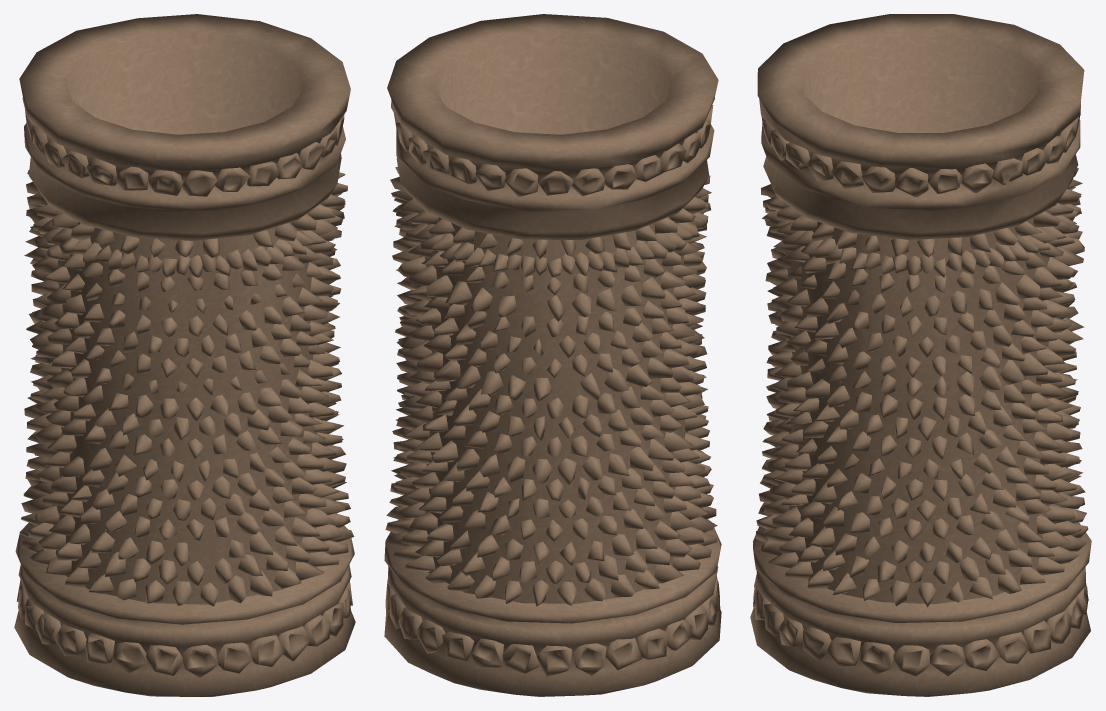
Rendered from IncienciarioLow.obj.
3 renders of one model, left to right at view 1: azimuth 30°, elevation 25°; view 2: azimuth 150°, elevation 25°; view 3: azimuth 270°, elevation 25°, orthographic.
Parts seen in each view (by area): view 1: Incienciario; view 2: Incienciario; view 3: Incienciario.
Part boxes in pixels (x1=…): Incienciario: x1=14, y1=14, x2=355, y2=696; Incienciario: x1=384, y1=14, x2=721, y2=696; Incienciario: x1=750, y1=14, x2=1091, y2=696.
Bounding box in the file's own units: 79.11 × 140 × 79.25.
Materials: 1 (1 with a texture image).
